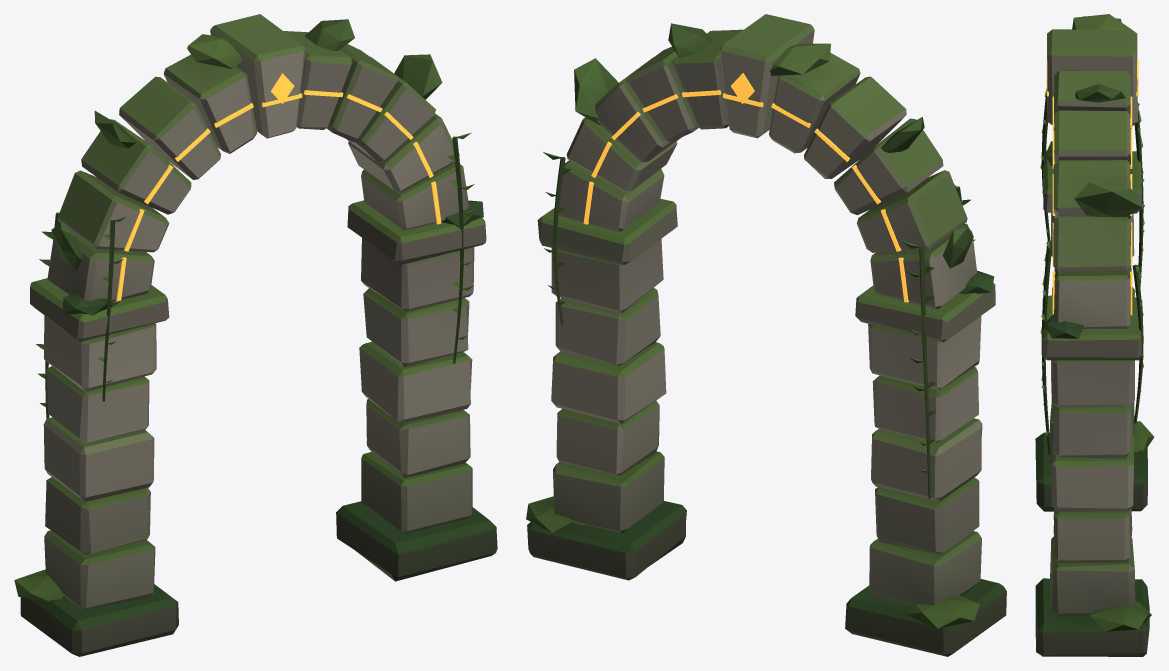
File: jungle-arch.glb
The picture shows the model from 3 angles, left to right: view 1: azimuth 30°, elevation 25°; view 2: azimuth 150°, elevation 25°; view 3: azimuth 270°, elevation 25°; orthographic projection. The views are drawn at different scales.
Parts seen in each view (by area): view 1: arch; view 2: arch; view 3: arch.
Part boxes in pixels (bbox=[...]): arch: bbox=[14, 14, 497, 656]; arch: bbox=[526, 14, 1006, 656]; arch: bbox=[1035, 14, 1154, 656].
Bounding box in the file's own units: 3.93 × 4.67 × 0.9619.
